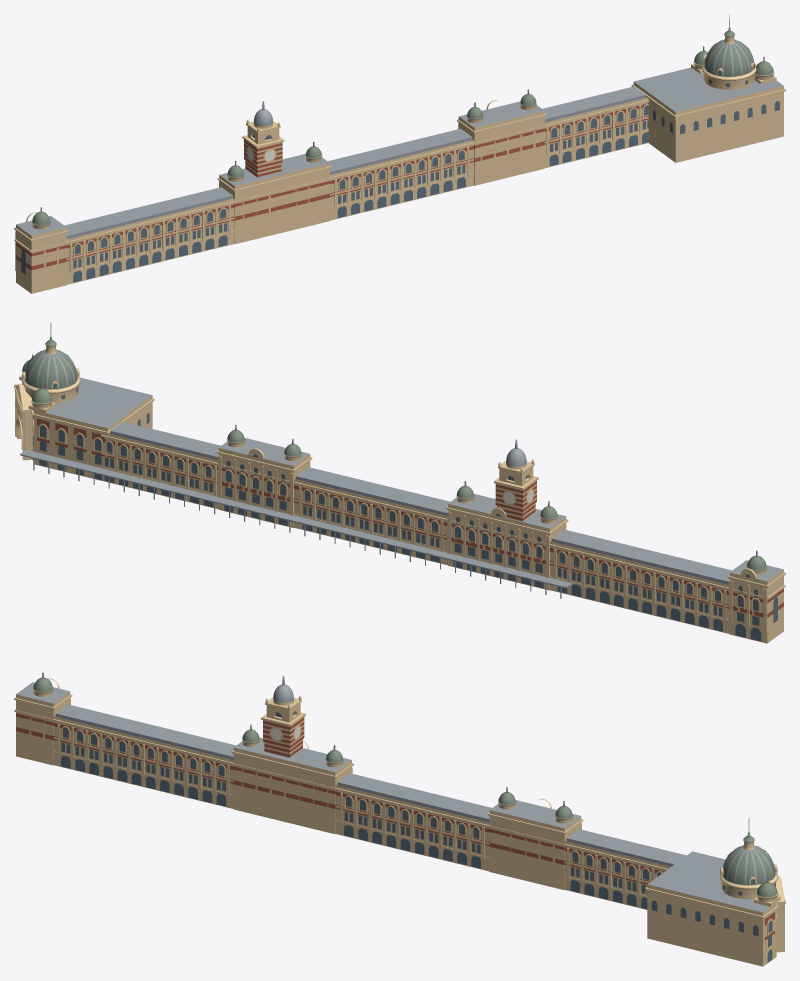
Rendered from melbourne-flinders-street-station.detail.glb.
The picture shows the model from 3 angles, top to bottom: view 1: azimuth 30°, elevation 25°; view 2: azimuth 150°, elevation 25°; view 3: azimuth 330°, elevation 25°; orthographic projection. The views are drawn at different scales.
Parts seen in each view (by area): view 1: Flinders Street Station; view 2: Flinders Street Station; view 3: Flinders Street Station.
Part boxes in pixels (x1,y1,x2,y2): Flinders Street Station: [14, 14, 785, 293]; Flinders Street Station: [14, 322, 785, 643]; Flinders Street Station: [14, 672, 785, 966].
Bounding box in the file's own units: 311 × 52 × 35.85.
